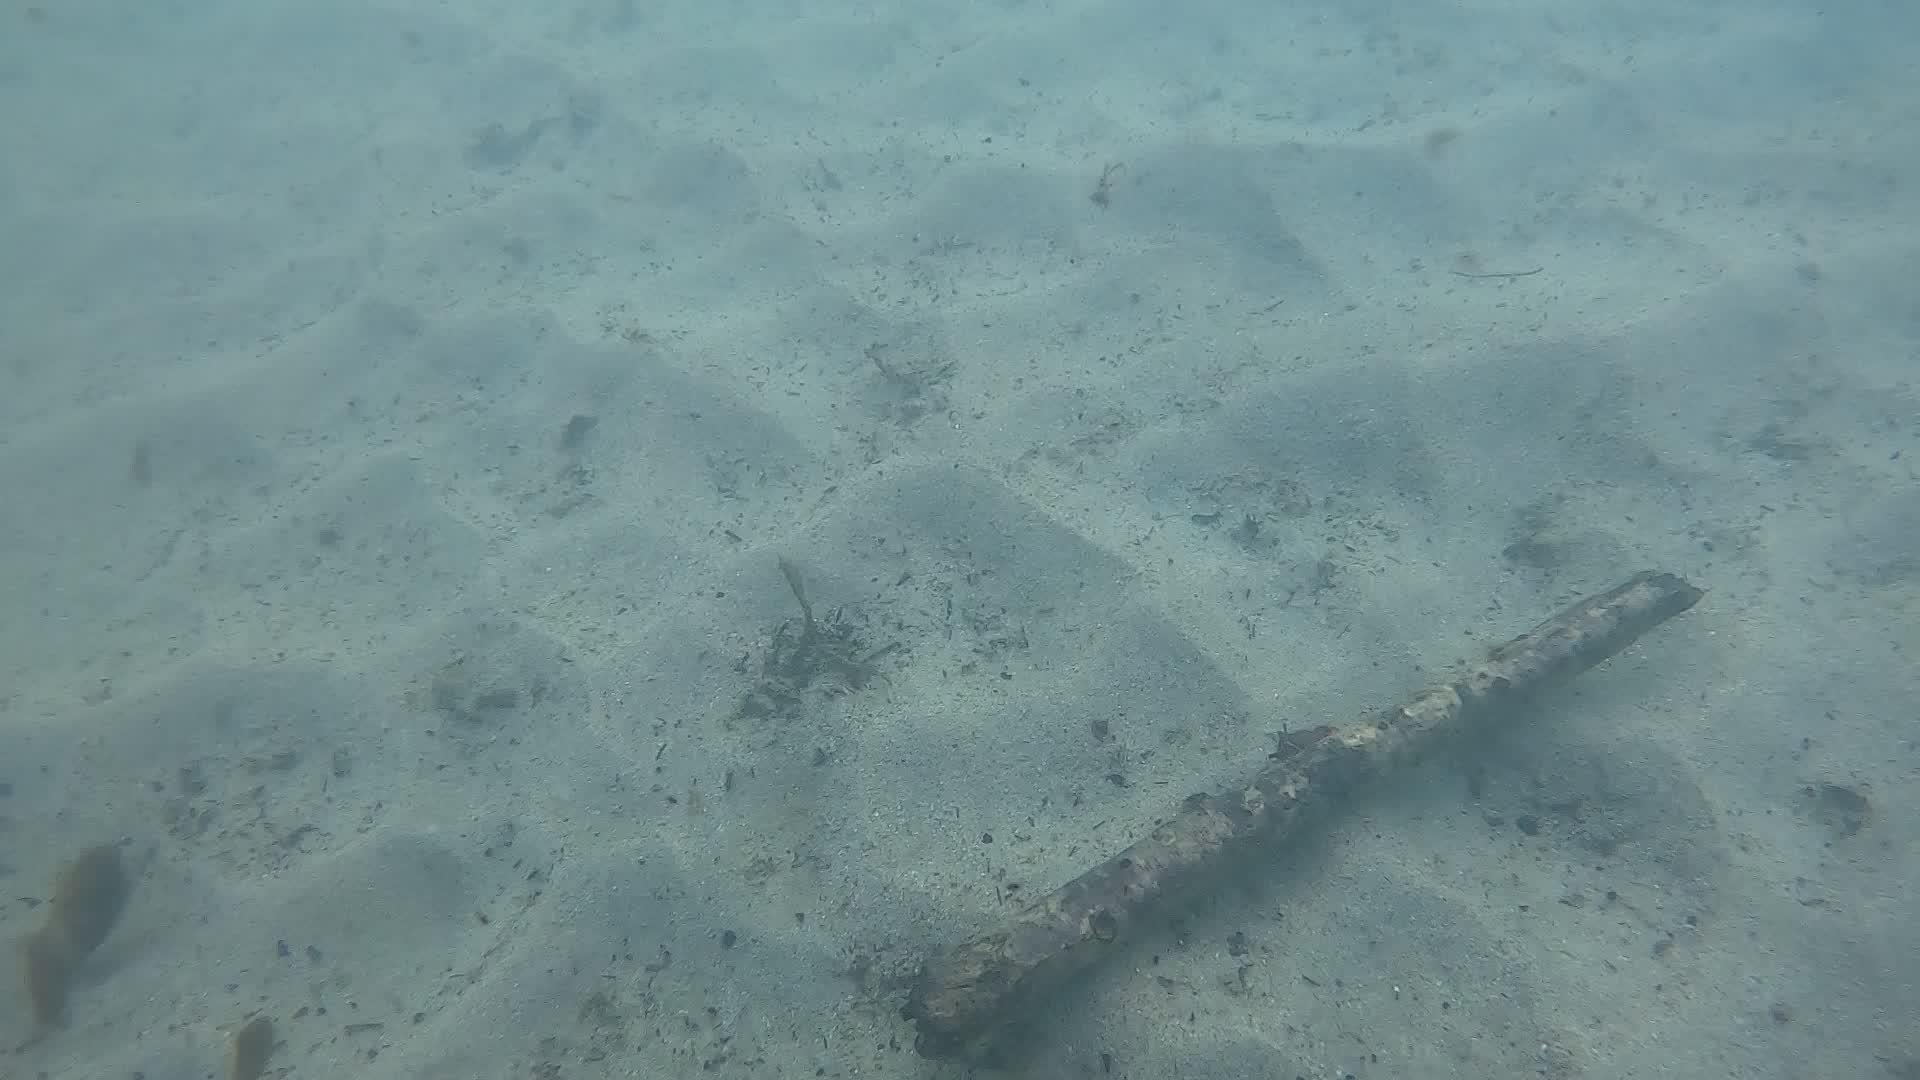wood: (902, 564, 1700, 1060)
